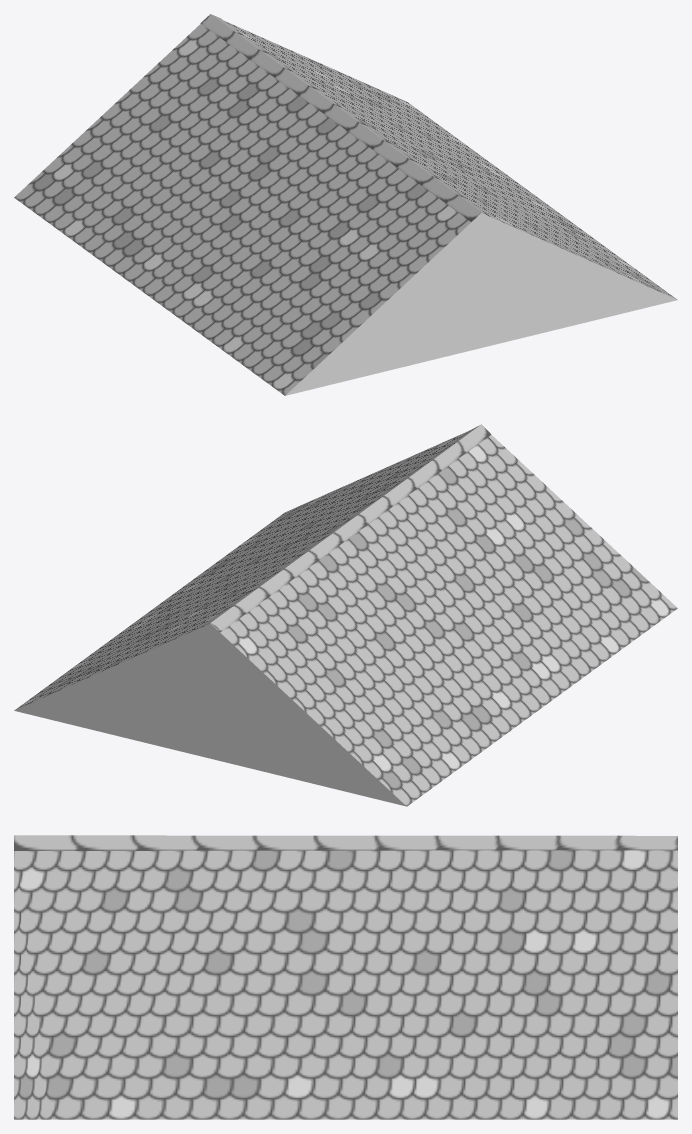
Rendered from HouseRoof3.fbx.
The picture shows the model from 3 angles, top to bottom: view 1: azimuth 30°, elevation 25°; view 2: azimuth 150°, elevation 25°; view 3: azimuth 270°, elevation 25°; orthographic projection. The views are drawn at different scales.
Parts seen in each view (by area): view 1: Roof3; view 2: Roof3; view 3: Roof3.
Part boxes in pixels (x1=…): Roof3: x1=14, y1=14, x2=677, y2=395; Roof3: x1=14, y1=424, x2=677, y2=806; Roof3: x1=14, y1=835, x2=677, y2=1119.
Size of the model in its own units: 335 by 111 by 400.
1 material, 1 textured.
